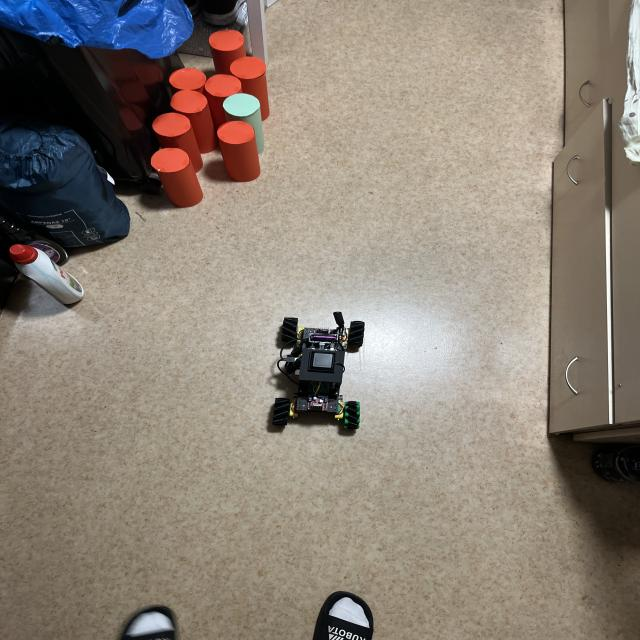robot: (272, 312, 364, 429)
